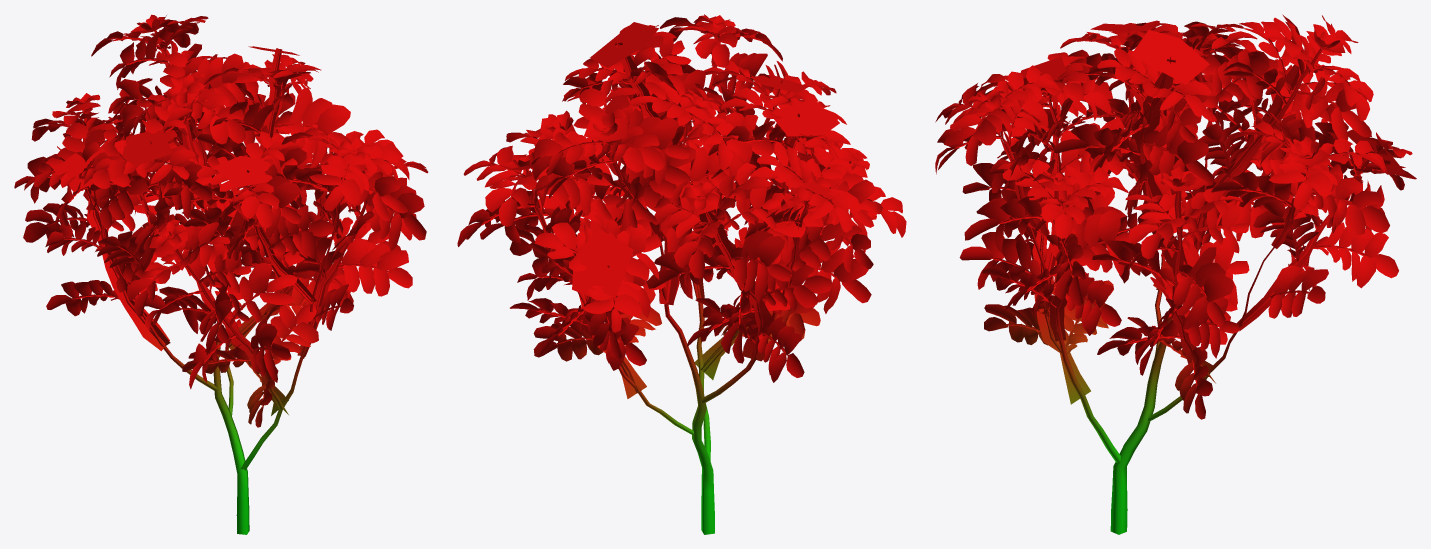
File: Rose Hip_LOD1_Var2.fbx
The picture shows the model from 3 angles, left to right: view 1: azimuth 30°, elevation 25°; view 2: azimuth 150°, elevation 25°; view 3: azimuth 270°, elevation 25°; orthographic projection. The views are drawn at different scales.
Parts seen in each view (by area): view 1: _frwt_Var2_LOD1; view 2: _frwt_Var2_LOD1; view 3: _frwt_Var2_LOD1.
Part boxes in pixels (<box>): _frwt_Var2_LOD1: <box>14,14,428,534</box>; _frwt_Var2_LOD1: <box>457,14,906,534</box>; _frwt_Var2_LOD1: <box>935,14,1416,534</box>.
Size of the model in its own units: 89.37 by 115 by 96.31.
